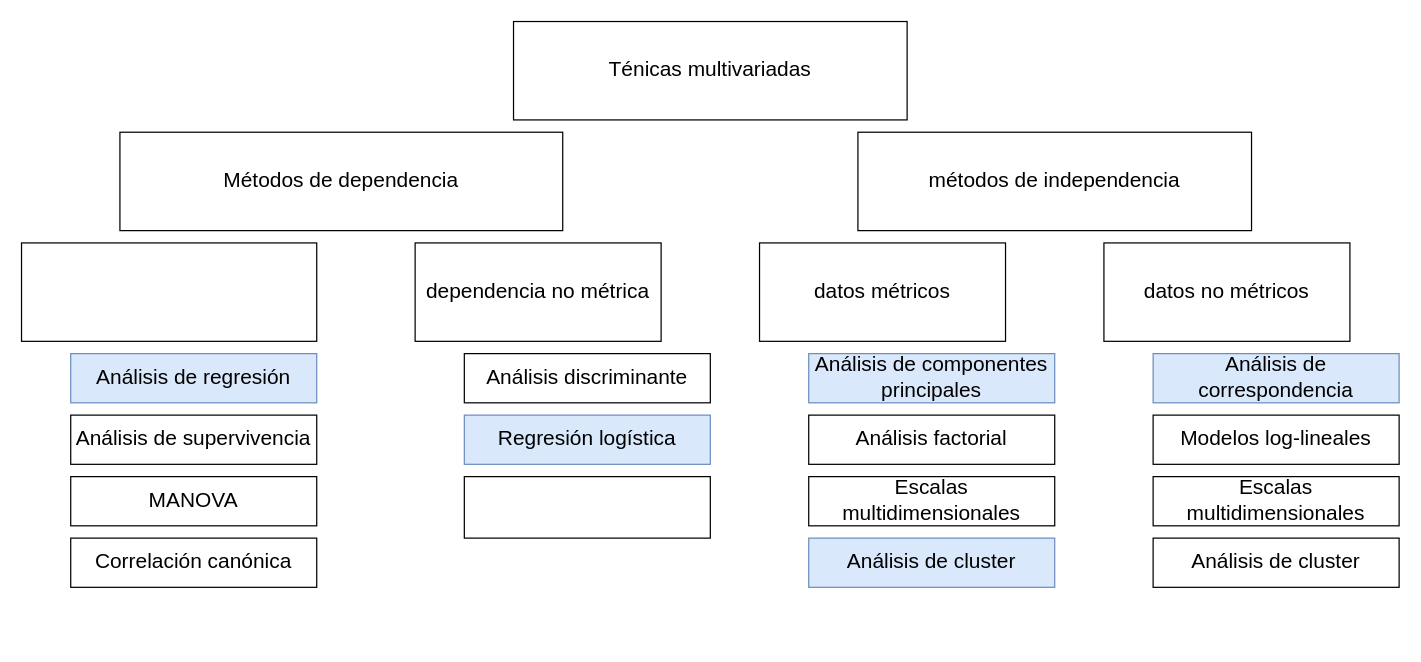
The diagram is 1421 pixels wide and 662 high, and some of its shapes have lost their labels. Each missing label, with the centre of its shape:
"Análisis conjoint" belongs at (x=586, y=506).
"dependencia métrica" belongs at (x=168, y=291).
